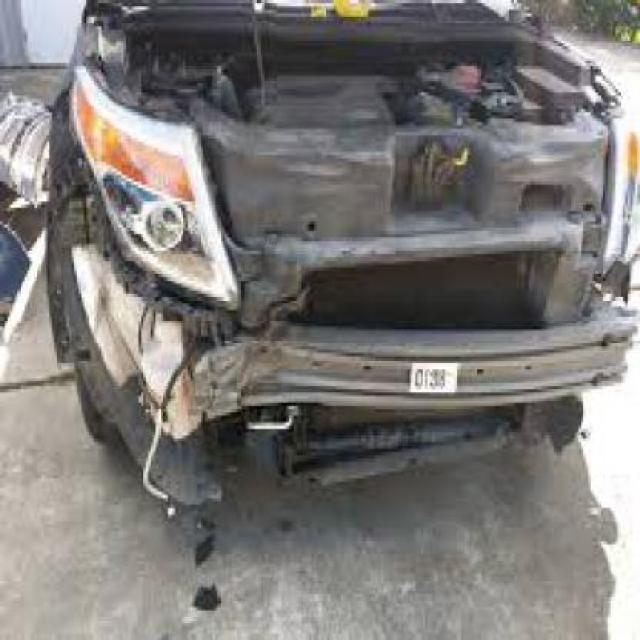damaged-front-bumper: (93, 281, 630, 454)
